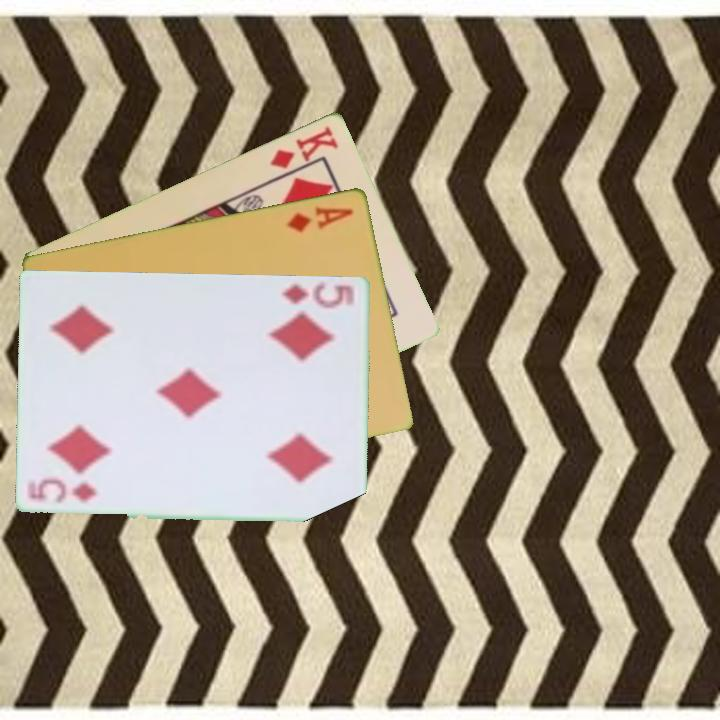5d: (279, 278, 359, 311), (26, 479, 101, 506)
Ad: (283, 202, 356, 235)
Kd: (266, 121, 342, 171)
